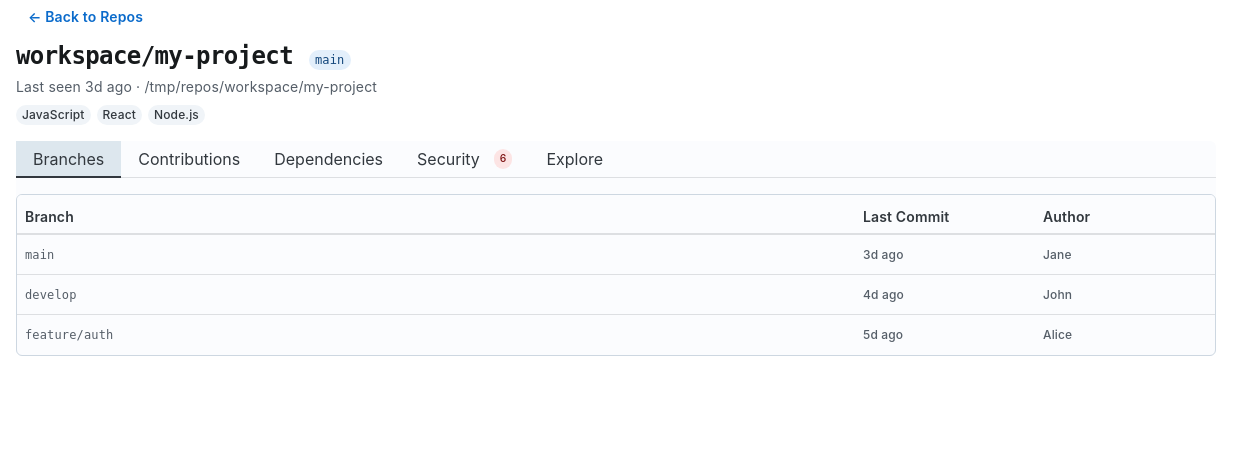
Scenario: AdminRepoDetailPage › switches to Contributions tab on click
Expected: the heading "workspace/my-project" is shown, top-left (16, 40), bottom-right (293, 72)
Click the tab "Contributions". click: click(189, 159)
box: top-left (121, 141), bottom-right (257, 177)
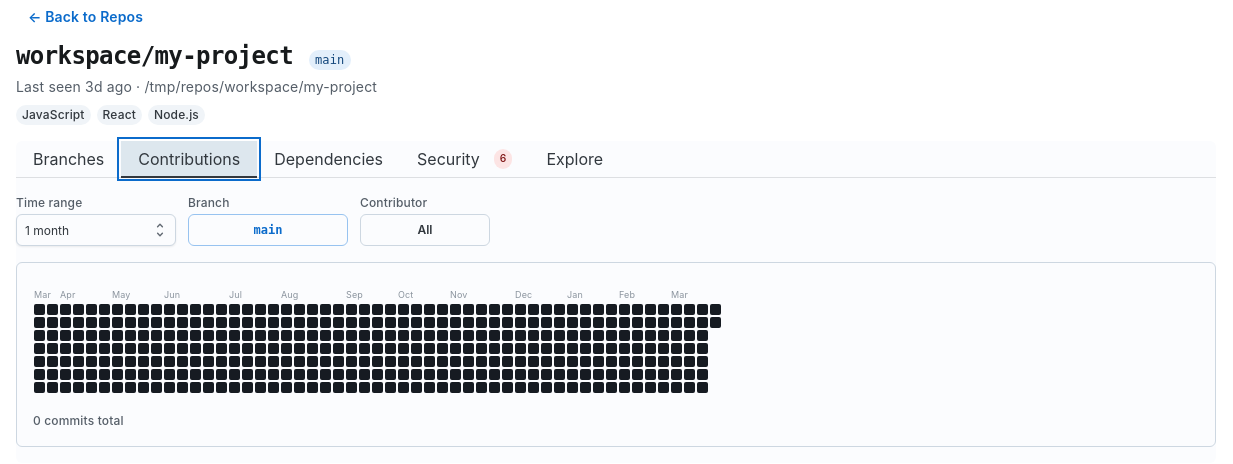
Result: the text "Time range" is shown at top-left (16, 195), bottom-right (82, 210)
